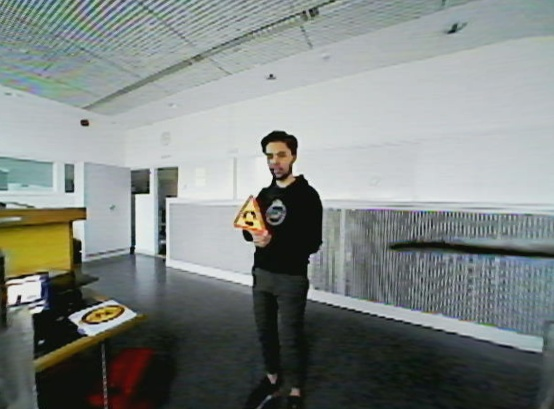roundabout_warning: (230, 190, 268, 238)
